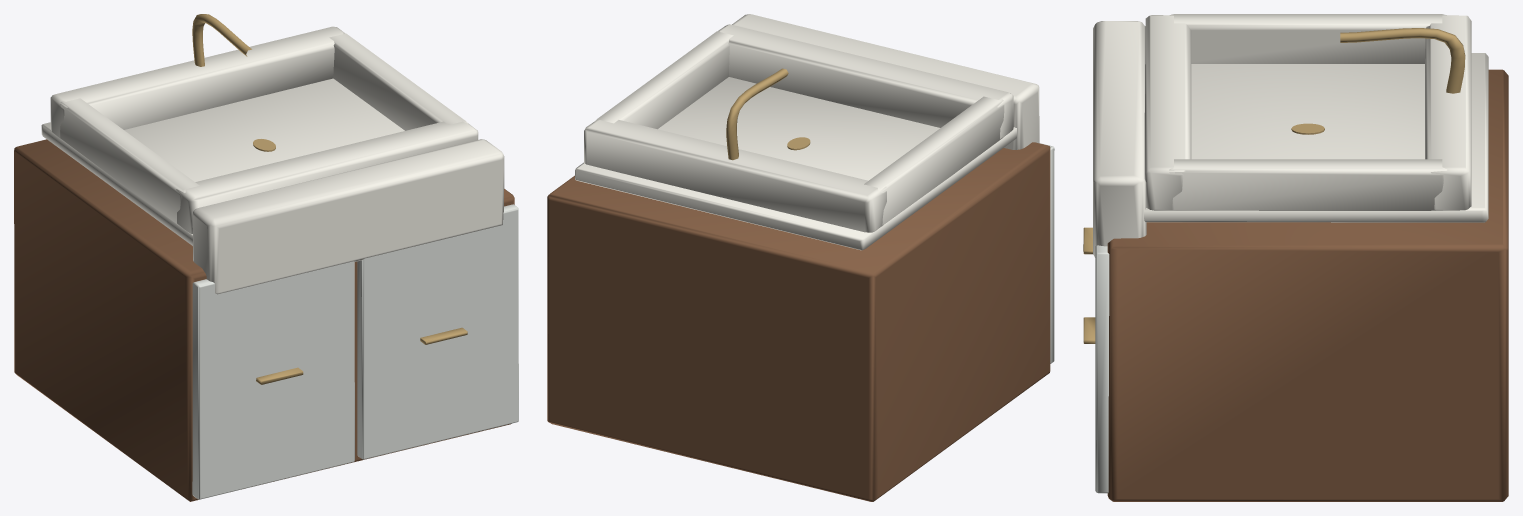
The model's file is sink-7-2.lod.glb.
The picture shows the model from 3 angles, left to right: view 1: azimuth 30°, elevation 25°; view 2: azimuth 150°, elevation 25°; view 3: azimuth 270°, elevation 25°; orthographic projection. The views are drawn at different scales.
Parts seen in each view (by area): view 1: upholstery (×4); view 2: upholstery (×4); view 3: upholstery (×4).
Part boxes in pixels (<box>): upholstery (×4): <box>14,14,518,501</box>; upholstery (×4): <box>547,14,1054,501</box>; upholstery (×4): <box>1083,14,1508,501</box>.
Bounding box in the file's own units: 1 × 1 × 1.
